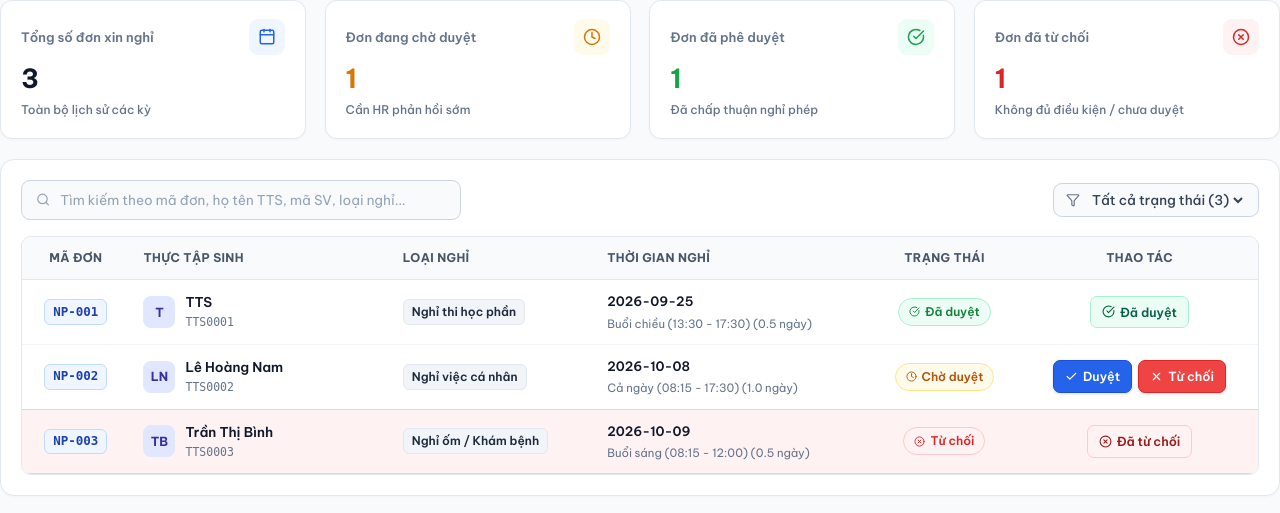
Scenario: LeaveRequestManagement Test Suite (HR Leave Approval) › 4. Search & Filter › lọc danh sách theo trạng thái qua Select dropdown
Expected: the text "NP-001" is shown, [44, 299, 107, 325]
Chọn "Chờ phê duyệt"
Select "Chờ phê duyệt (1)" in the dropdown at (1167, 200), box [1088, 190, 1246, 210]
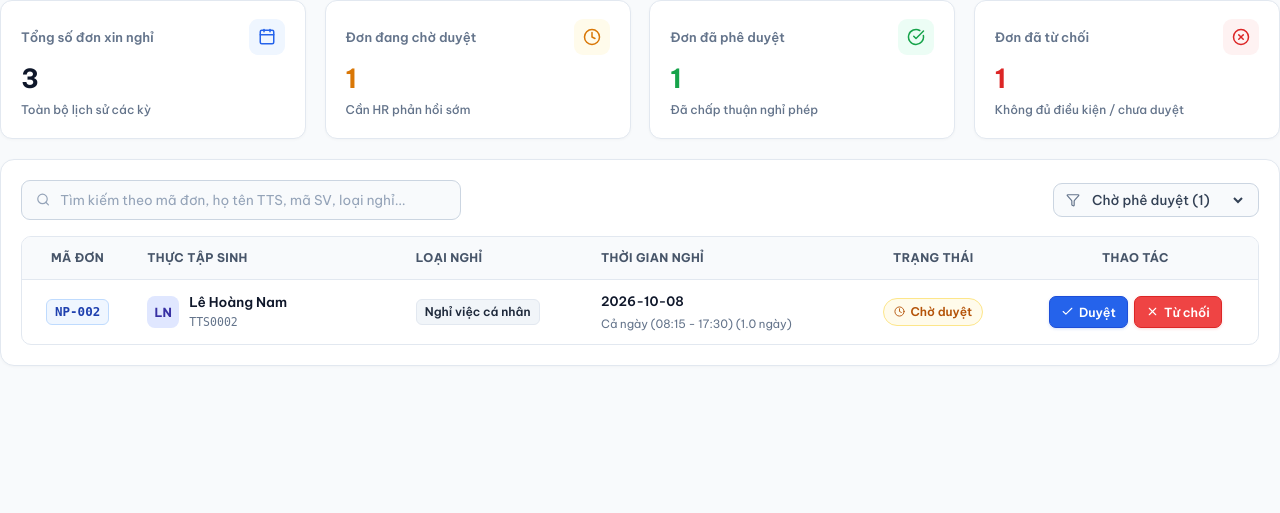
Expected: the text "NP-002" is shown, [46, 299, 109, 325]
Now the text "NP-001" is gone
Now the text "NP-003" is gone
Chọn "Đã từ chối"
Select "Đã từ chối (1)" in the dropdown at (1167, 200), box [1088, 190, 1246, 210]
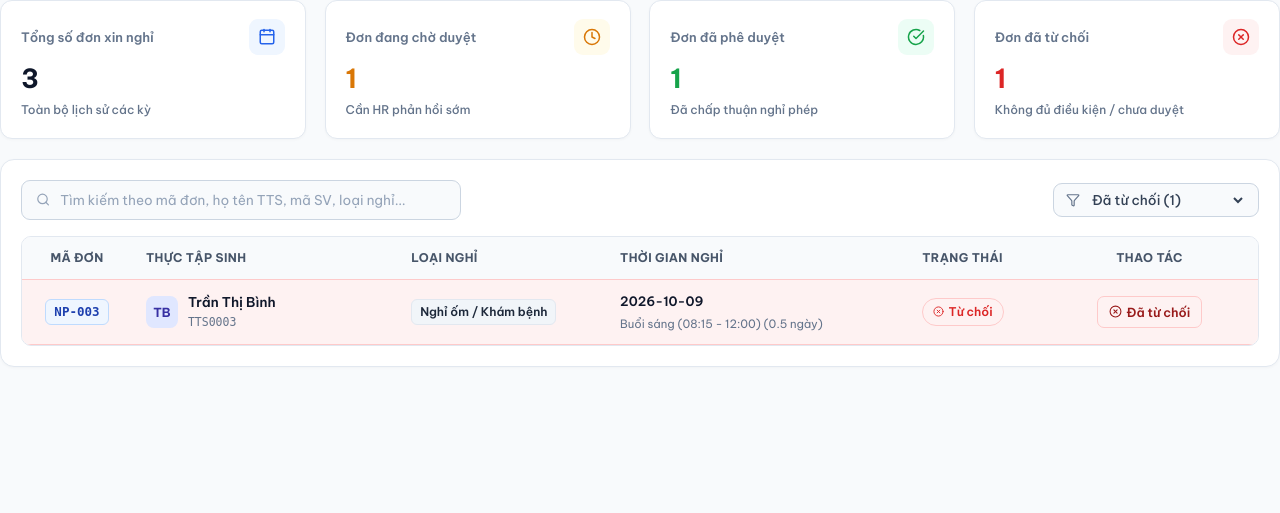
Expected: the text "NP-001" is not shown
Now the text "NP-002" is gone
Now the text "NP-003" is shown, box [45, 299, 109, 325]
